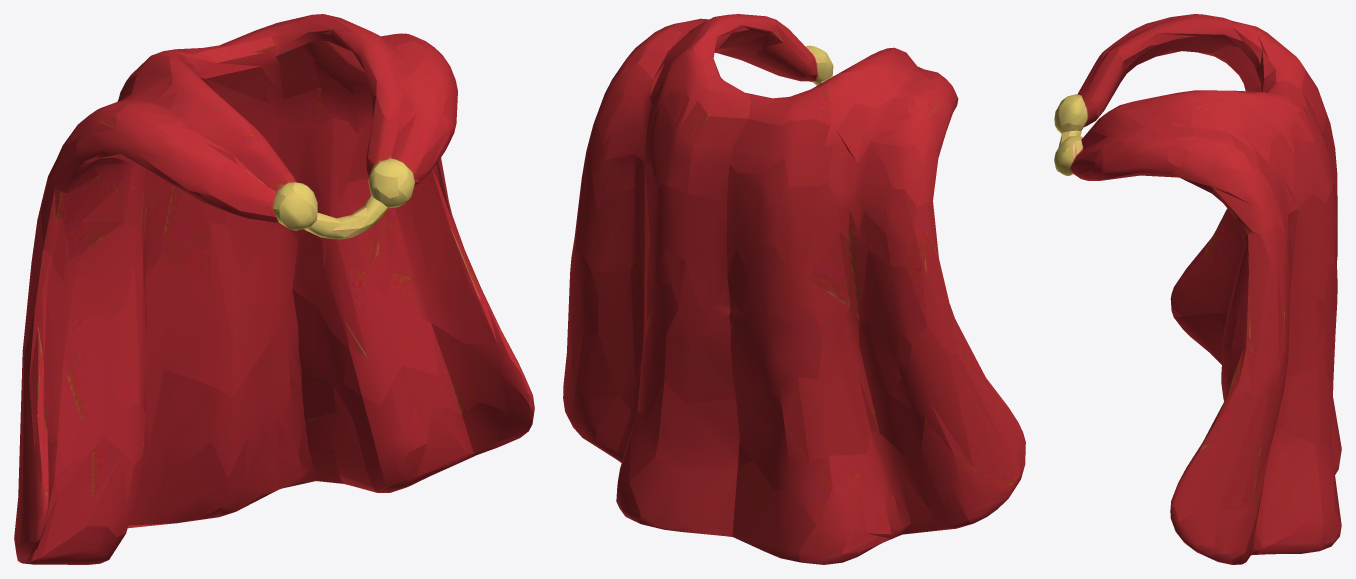
File: cape_hero.fbx
3 views of the same model, side by side, from view 1: azimuth 30°, elevation 25°; view 2: azimuth 150°, elevation 25°; view 3: azimuth 270°, elevation 25° (orthographic). The views are drawn at different scales.
Visible parts, largest first — view 1: Mesh_0; view 2: Mesh_0; view 3: Mesh_0.
Part boxes in pixels (x1,y1,x2,y2): Mesh_0: (14,14,534,564); Mesh_0: (563,14,1025,564); Mesh_0: (1054,14,1341,564).
Bounding box in the file's own units: 1.9 × 1.83 × 1.07.
1 material, 1 textured.
